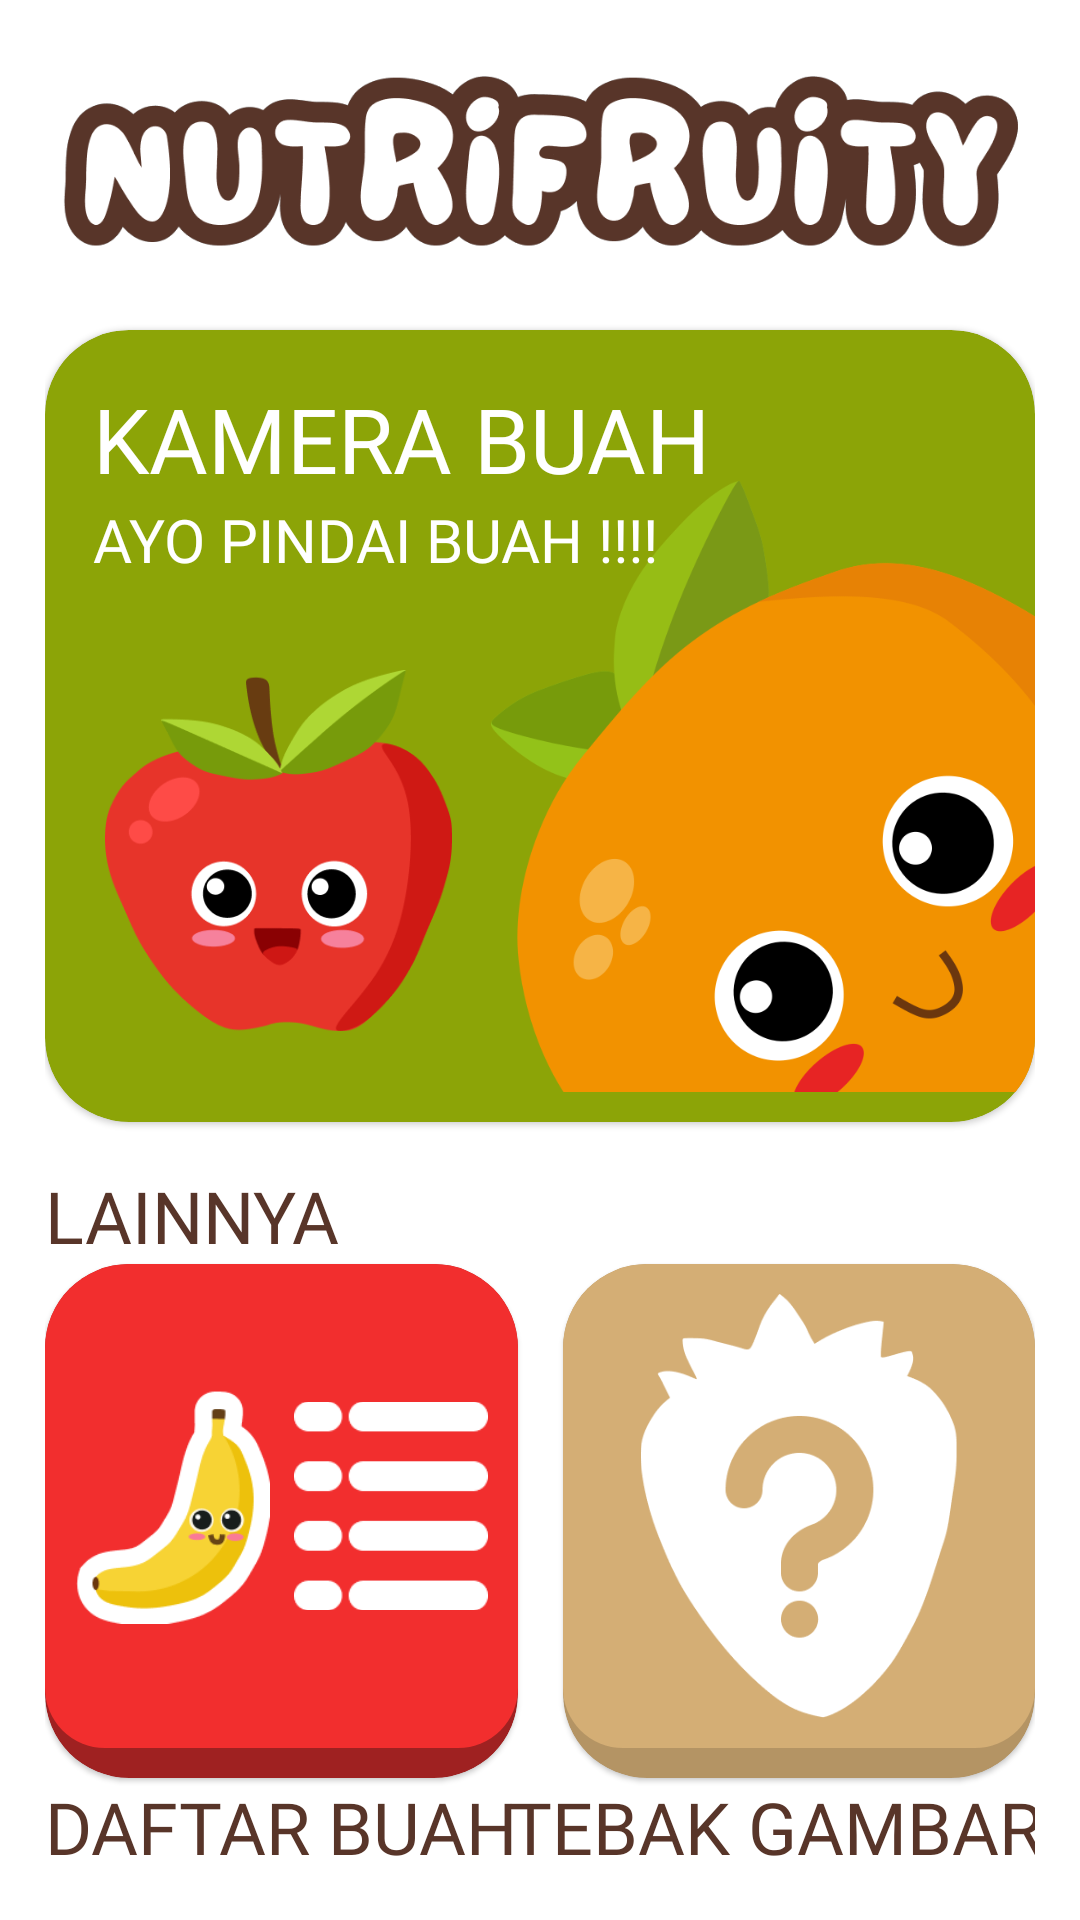

Named icons in this screenshot (1080*1920) and their centers, (x,y):
banana: (173,1507)
list: (391,1506)
